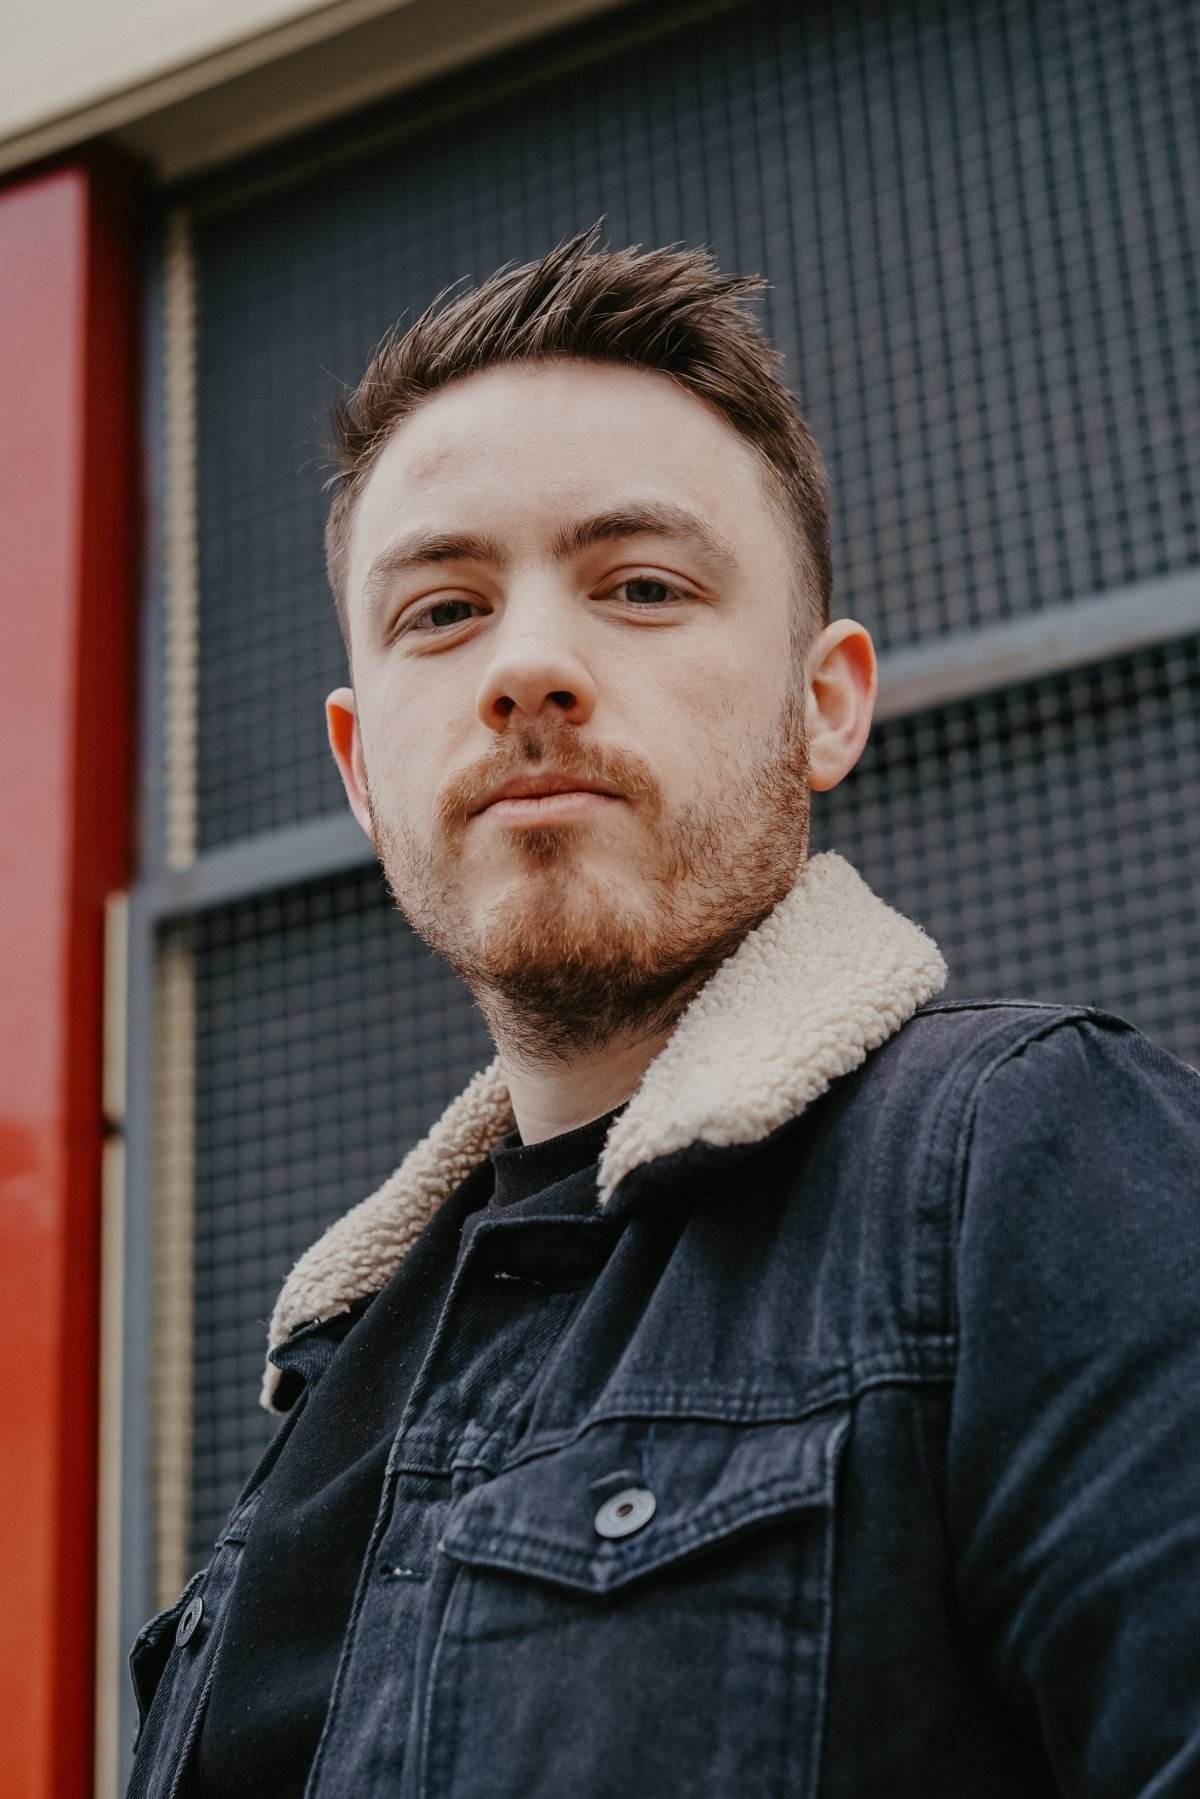person: (268, 227, 1200, 1699)
